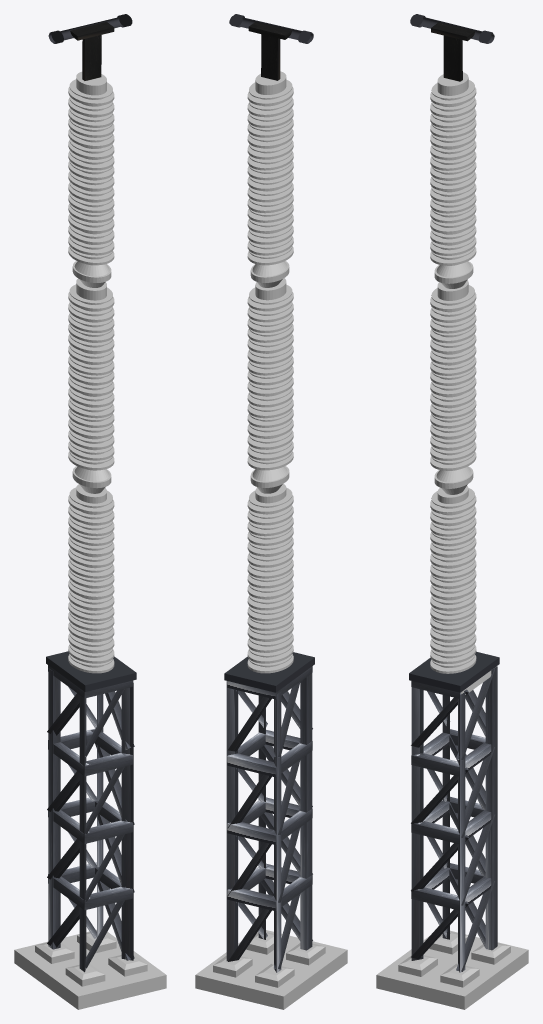
The model's file is Torre4.fbx.
3 renders of one model, left to right at view 1: azimuth 30°, elevation 25°; view 2: azimuth 150°, elevation 25°; view 3: azimuth 330°, elevation 25°, orthographic.
Parts seen in each view (by area): view 1: Cube.106; view 2: Cube.106; view 3: Cube.106.
Part boxes in pixels (x1,y1,x2,y2): Cube.106: [14, 14, 166, 1009]; Cube.106: [195, 14, 347, 1009]; Cube.106: [376, 14, 528, 1009].
Size of the model in its own units: 63.41 by 652 by 79.3.
